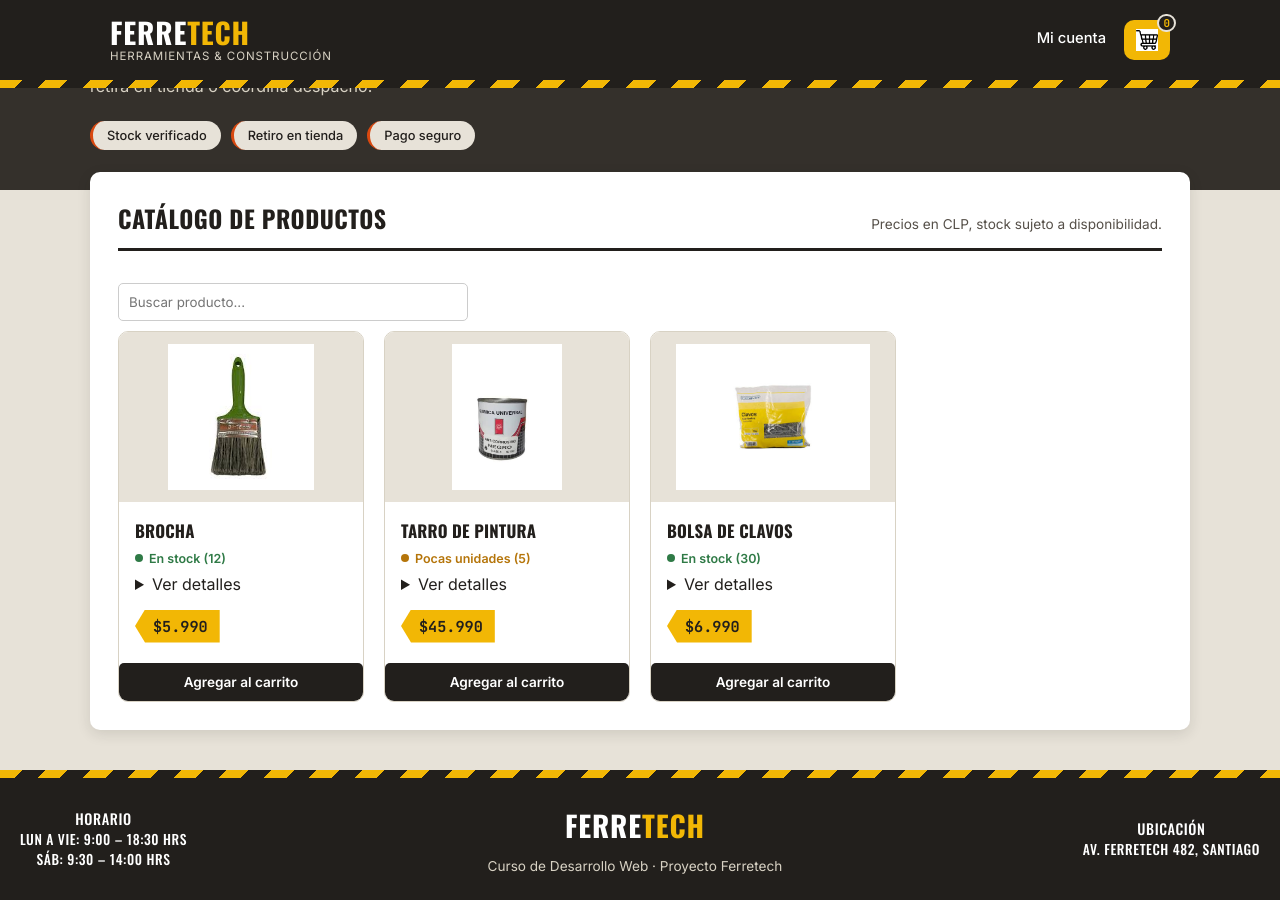
Test: Desde el inicio, agregar un producto actualiza el contador y el carrito
The width and height of the screenshot is (1280, 900).
(page scrolled)
interaccion del usuario
Click the button "Agregar al carrito" below "$5.990": (241, 682) left=119, top=663, right=363, bottom=701
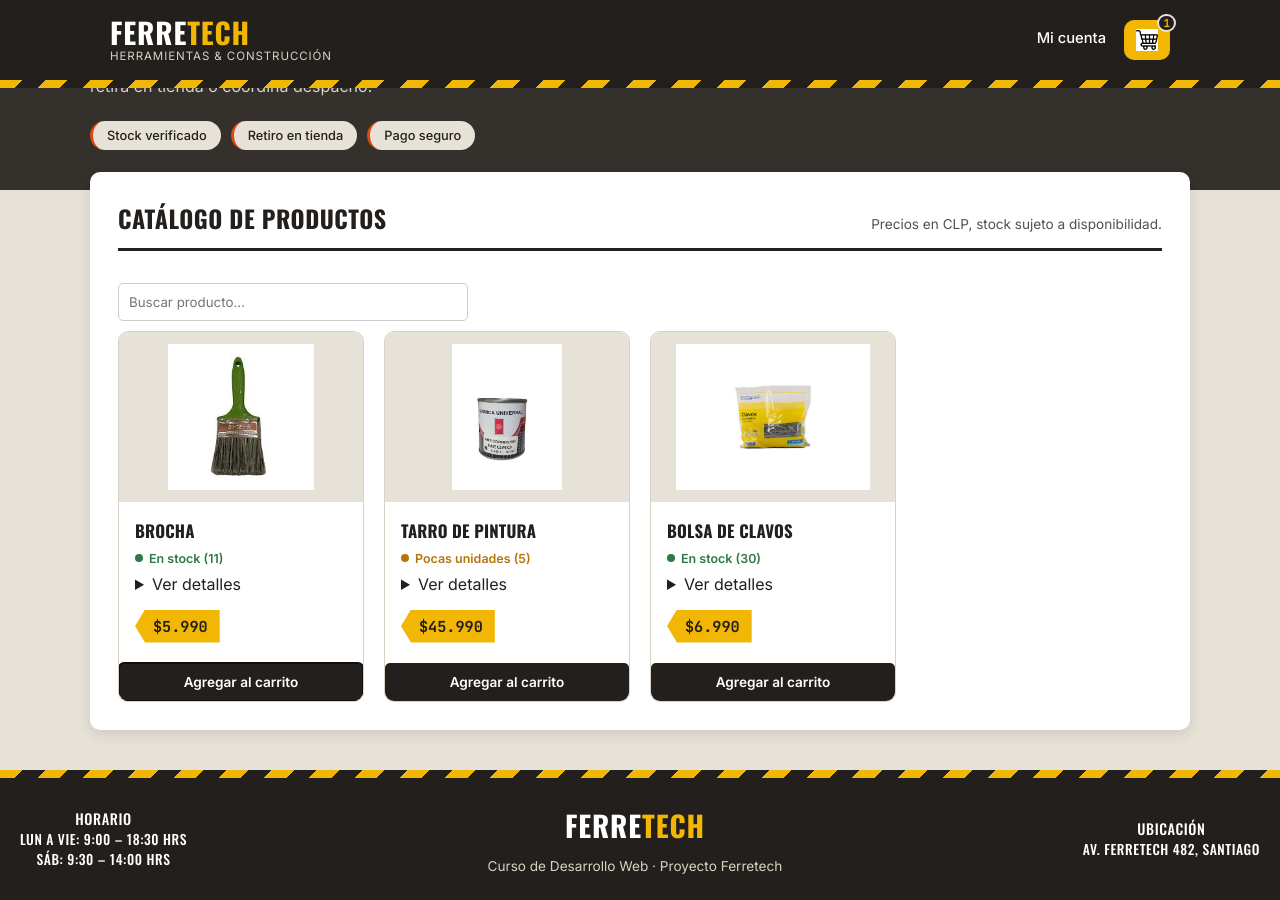
Click the link named "Carrito de compras": (1147, 40) left=1124, top=20, right=1170, bottom=60
(page scrolled)
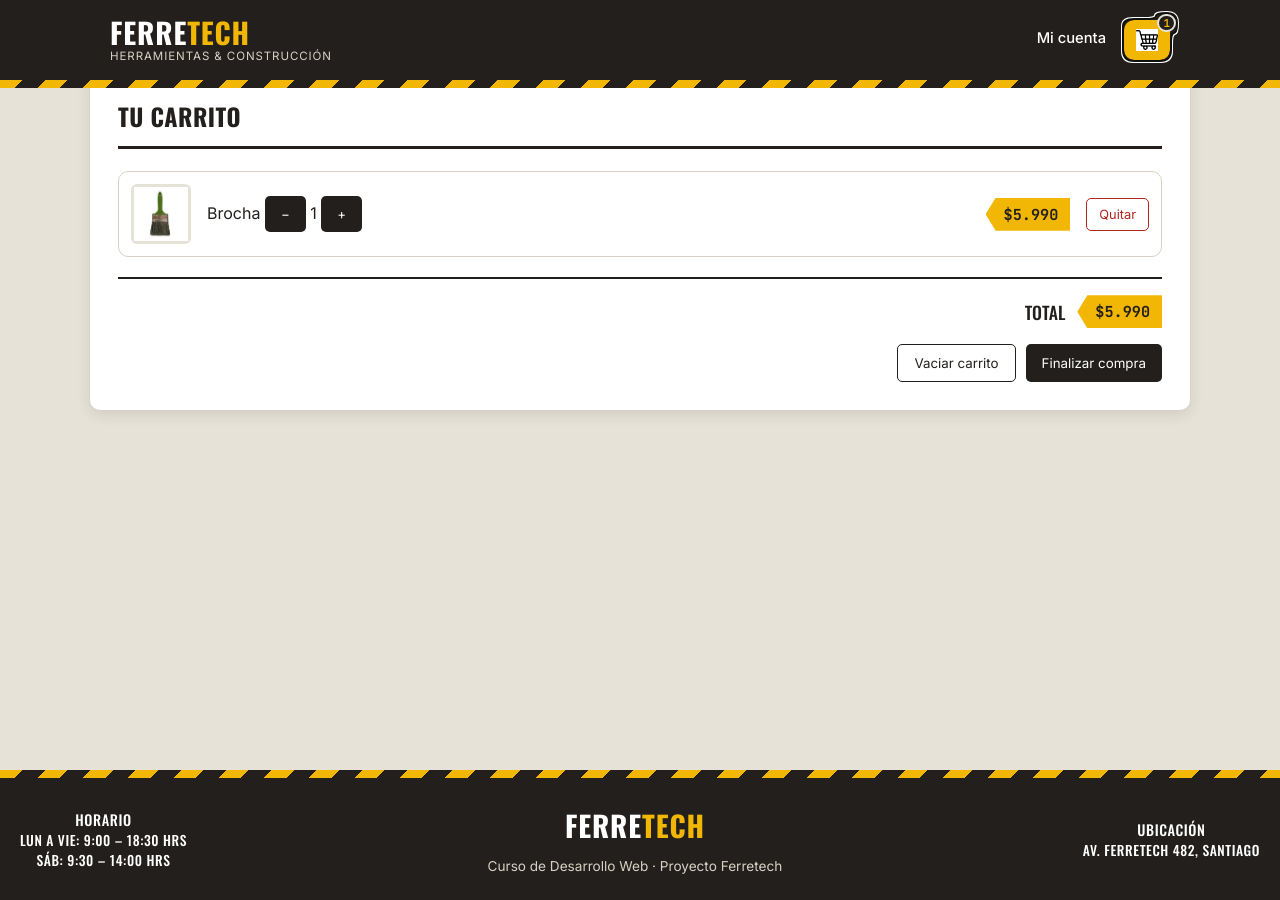
Expected: the text "Brocha" is shown, left=207, top=203, right=260, bottom=223
Expected: the heading "Tu carrito" is shown, left=118, top=98, right=241, bottom=134
Expected: the text "$5.990" next to "Total" is shown, left=1095, top=301, right=1150, bottom=322
